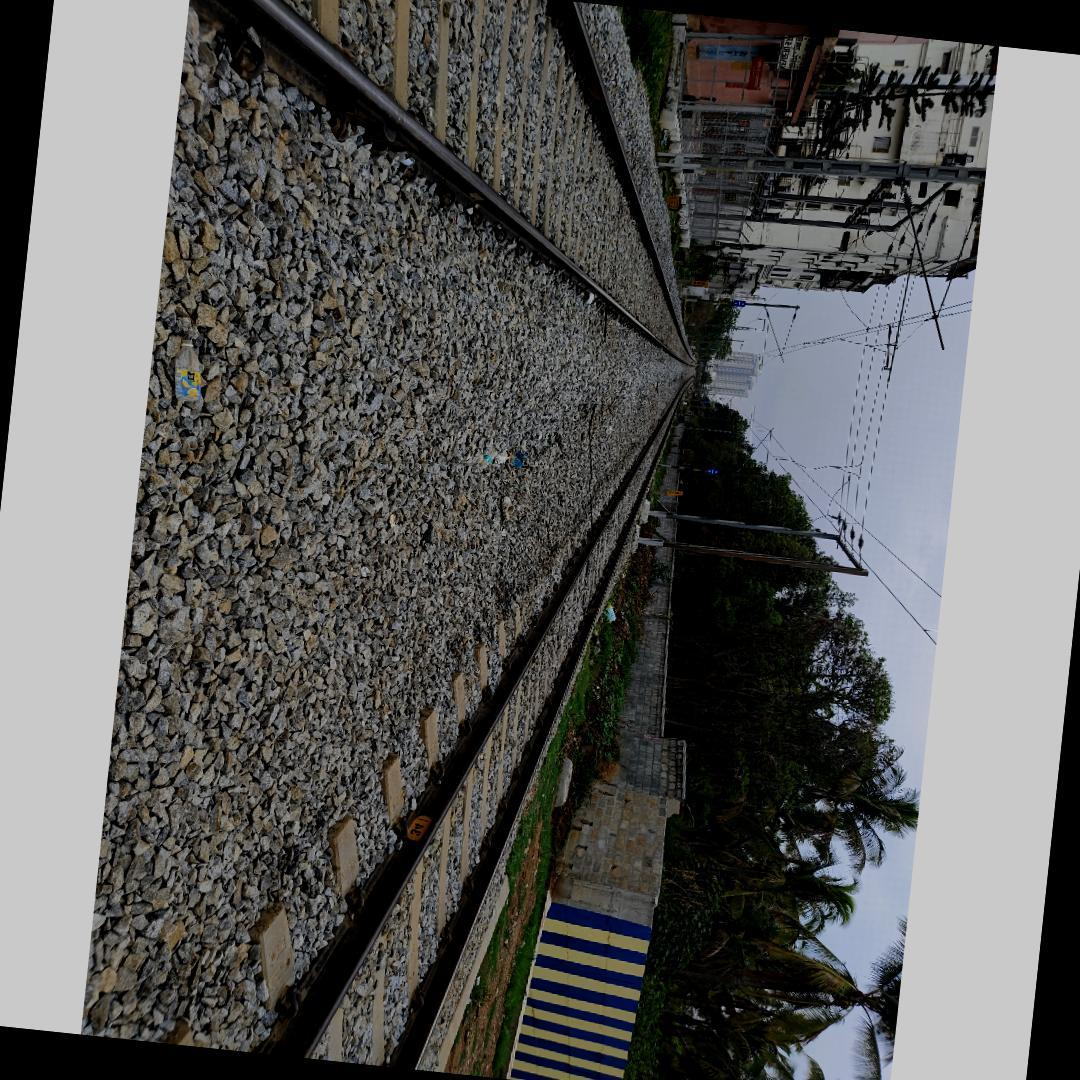track: (187, 0, 699, 373)
